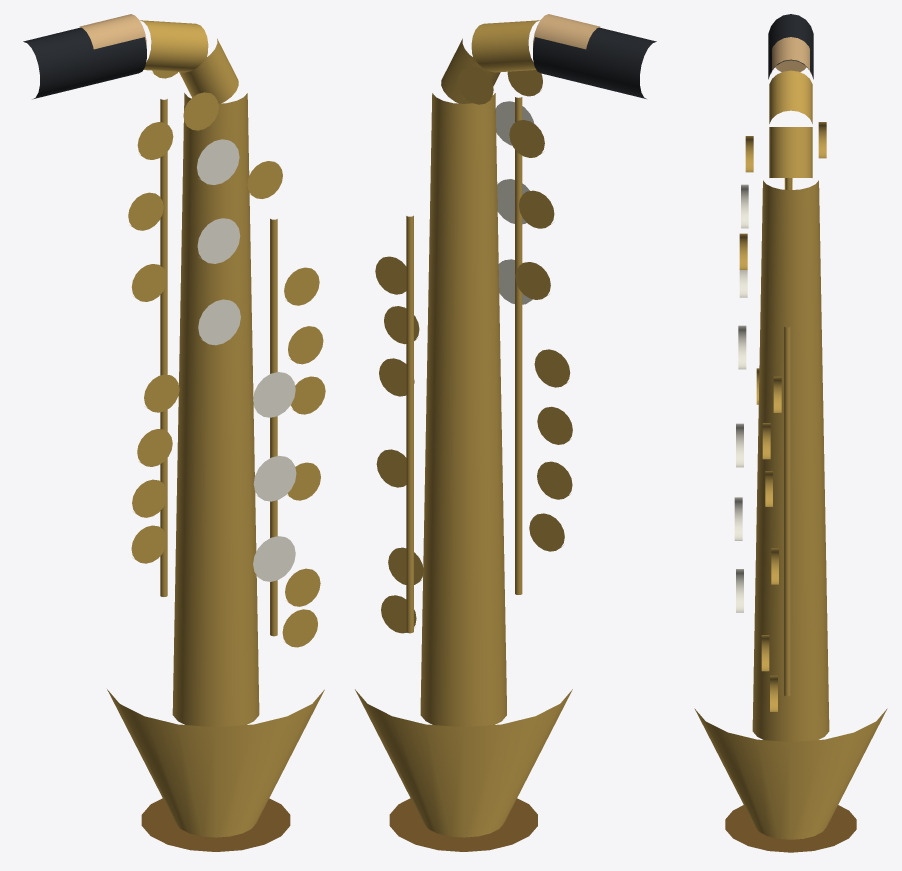
The model's file is sopranino-sax.glb.
The picture shows the model from 3 angles, left to right: view 1: azimuth 30°, elevation 25°; view 2: azimuth 150°, elevation 25°; view 3: azimuth 270°, elevation 25°; orthographic projection. The views are drawn at different scales.
Visible parts, largest first — view 1: body, bell, mouthpiece, bell_interior, neck_2, left_rod, right_rod, neck_1, key__rh3, key__lh2, key__rh2, key__rh1 (+18 smaller); view 2: body, bell, mouthpiece, bell_interior, left_rod, right_rod, neck_2, cork, neck_1, key__lowBb, key__palmEb, key__gsharp (+15 smaller); view 3: body, bell, bell_interior, right_rod, neck_1, neck_2, mouthpiece, cork, key__lh3, key__rh2.
Boxes of the visible parts, x1,y1,x2,y2 form: body: (172, 93, 259, 727); bell: (107, 689, 324, 837); mouthpiece: (23, 27, 146, 99); bell_interior: (141, 798, 290, 851); neck_2: (140, 20, 208, 72); left_rod: (160, 99, 167, 596); right_rod: (270, 218, 277, 636); neck_1: (179, 38, 238, 103); key__rh3: (253, 536, 295, 581); key__lh2: (197, 218, 240, 263); key__rh2: (253, 456, 296, 501); key__rh1: (253, 372, 295, 417); body: (420, 93, 506, 727); bell: (355, 689, 572, 837); mouthpiece: (533, 27, 656, 98); bell_interior: (389, 798, 537, 851); left_rod: (515, 97, 522, 594); right_rod: (406, 215, 413, 633); neck_2: (471, 20, 539, 72); cork: (533, 14, 600, 49); neck_1: (441, 38, 500, 103); key__lowBb: (529, 513, 564, 551); key__palmEb: (519, 190, 554, 228); key__gsharp: (534, 349, 570, 387); body: (752, 180, 829, 741); bell: (694, 708, 887, 839); bell_interior: (725, 805, 856, 852); right_rod: (784, 327, 790, 696); neck_1: (769, 127, 812, 177); neck_2: (769, 70, 812, 123); mouthpiece: (768, 14, 813, 79); cork: (770, 37, 811, 74); key__lh3: (738, 325, 746, 369); key__rh2: (734, 497, 742, 540).
Bounding box in the file's own units: 2.16 × 6 × 1.44.
